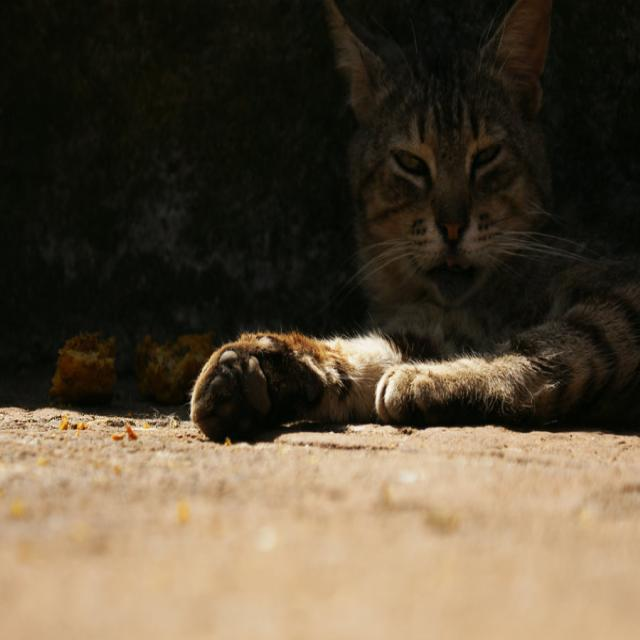Cat: (189, 0, 639, 444)
